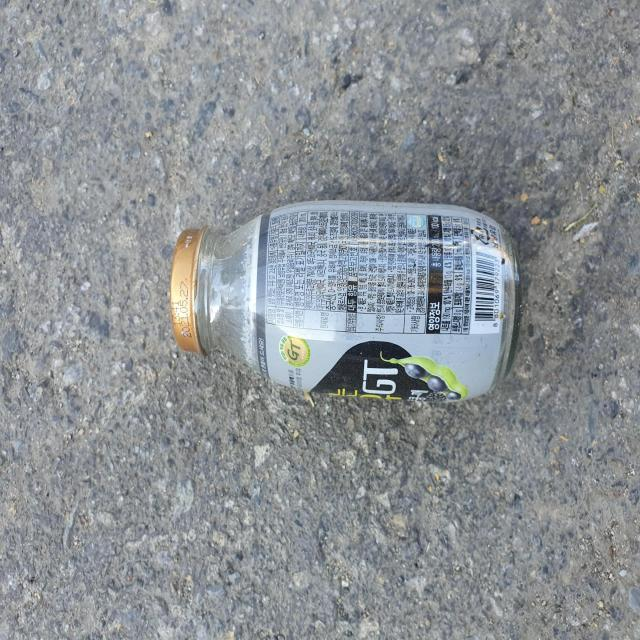glass: (171, 201, 522, 401)
